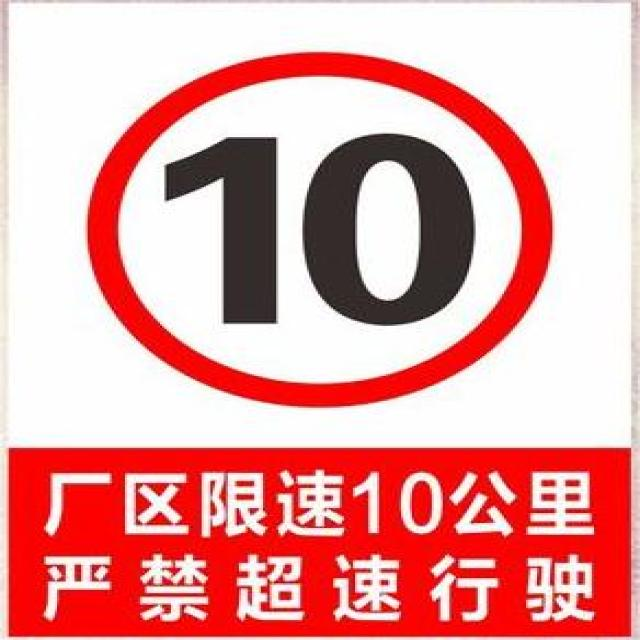speed limit 10: (81, 52, 553, 408)
